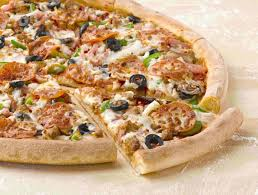pizza: (77, 86, 251, 173)
